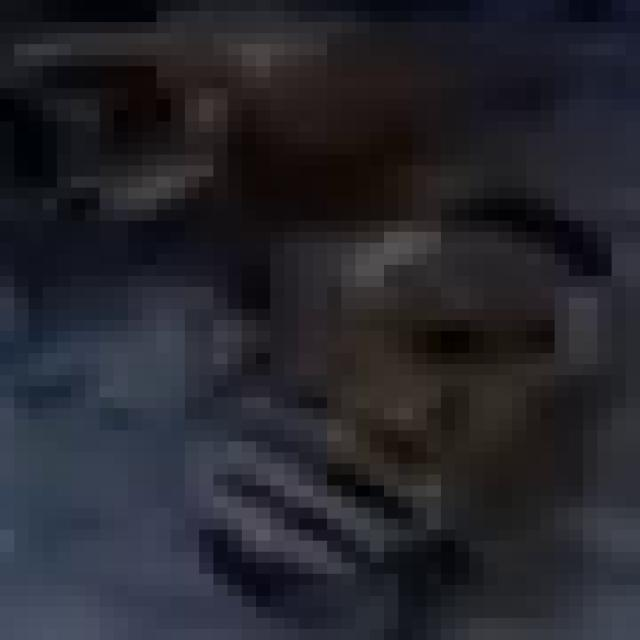honeybee: (213, 176, 639, 640), (3, 26, 300, 270)
